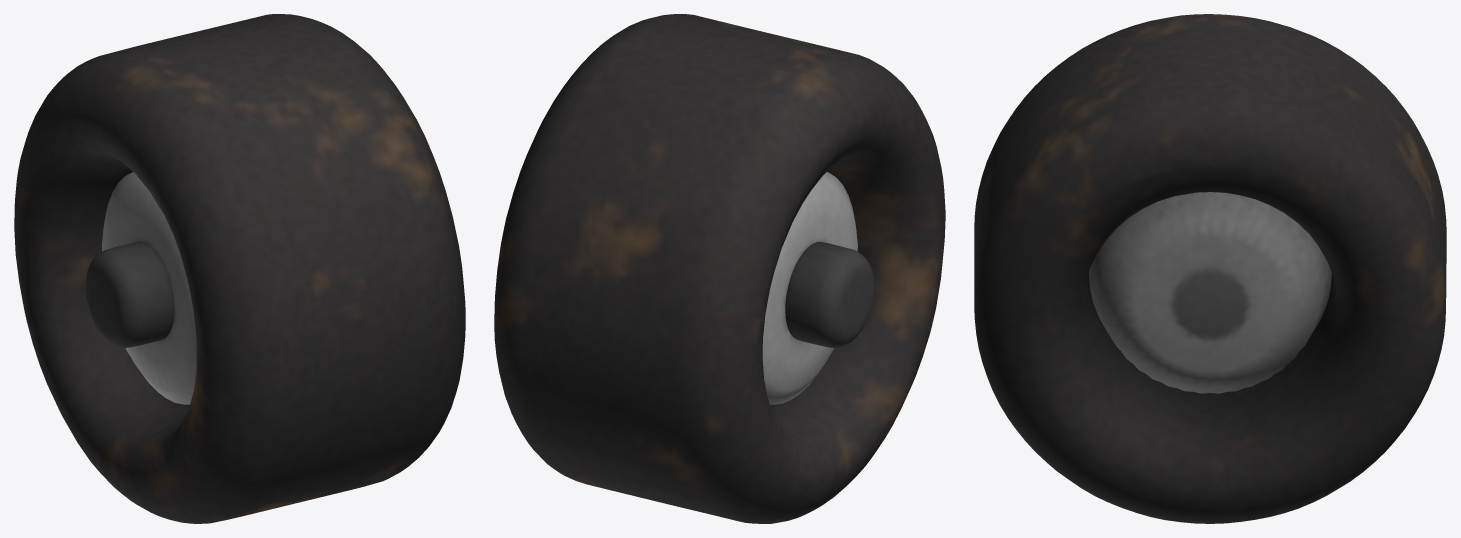
3 renders of one model, left to right at view 1: azimuth 30°, elevation 25°; view 2: azimuth 150°, elevation 25°; view 3: azimuth 270°, elevation 25°, orthographic. The views are drawn at different scales.
Parts seen in each view (by area): view 1: wheel_RR; view 2: wheel_RR; view 3: wheel_RR.
Boxes of the visible parts, x1,y1,x2,y2 form: wheel_RR: [14, 14, 465, 523]; wheel_RR: [494, 14, 945, 523]; wheel_RR: [974, 14, 1446, 523].
Bounding box in the file's own units: 0.2279 × 0.3593 × 0.3591.
Materials: 1 (1 with a texture image).
